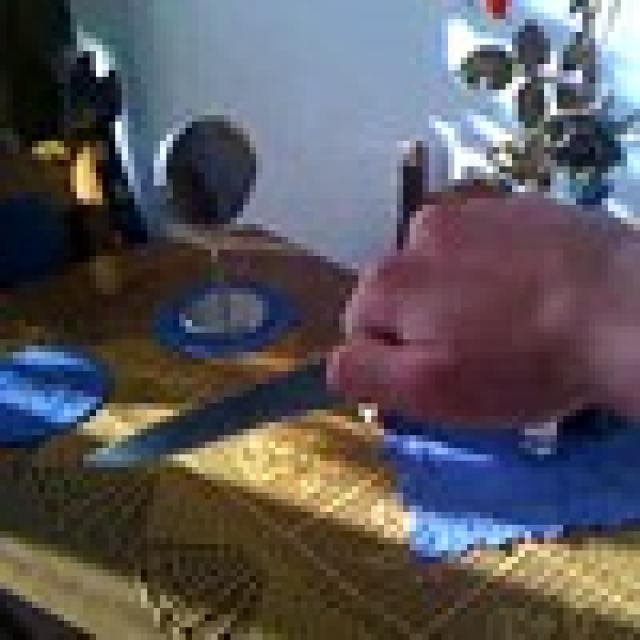Knife: (70, 346, 436, 499)
